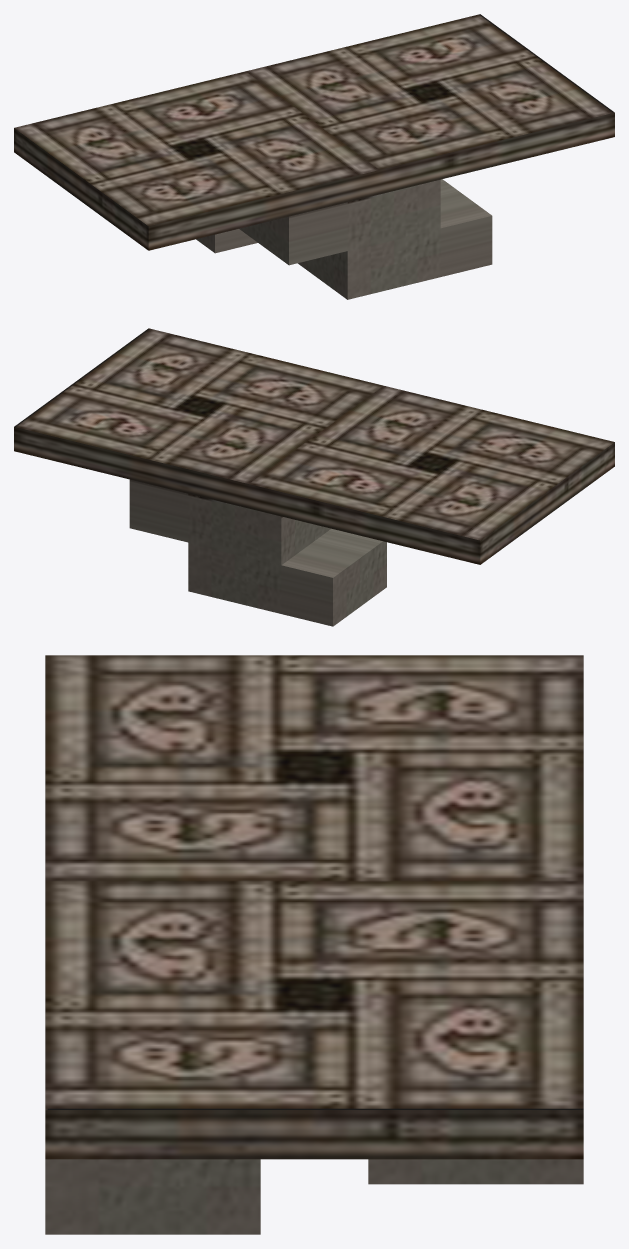
File: table.fbx
3 views of the same model, one above another, from view 1: azimuth 30°, elevation 25°; view 2: azimuth 150°, elevation 25°; view 3: azimuth 270°, elevation 25° (orthographic). The views are drawn at different scales.
Parts seen in each view (by area): view 1: Cube; view 2: Cube; view 3: Cube.
Part boxes in pixels (x1=…): Cube: x1=14, y1=14, x2=614, y2=299; Cube: x1=14, y1=328, x2=614, y2=626; Cube: x1=45, y1=655, x2=583, y2=1234.
Bounding box in the file's own units: 200 × 50 × 100.
2 materials, 2 textured.
